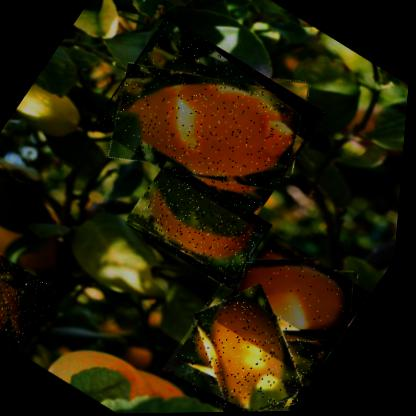lemon: (88, 13, 336, 227), (216, 231, 380, 382), (165, 280, 342, 413), (124, 158, 283, 290), (0, 215, 72, 354)
